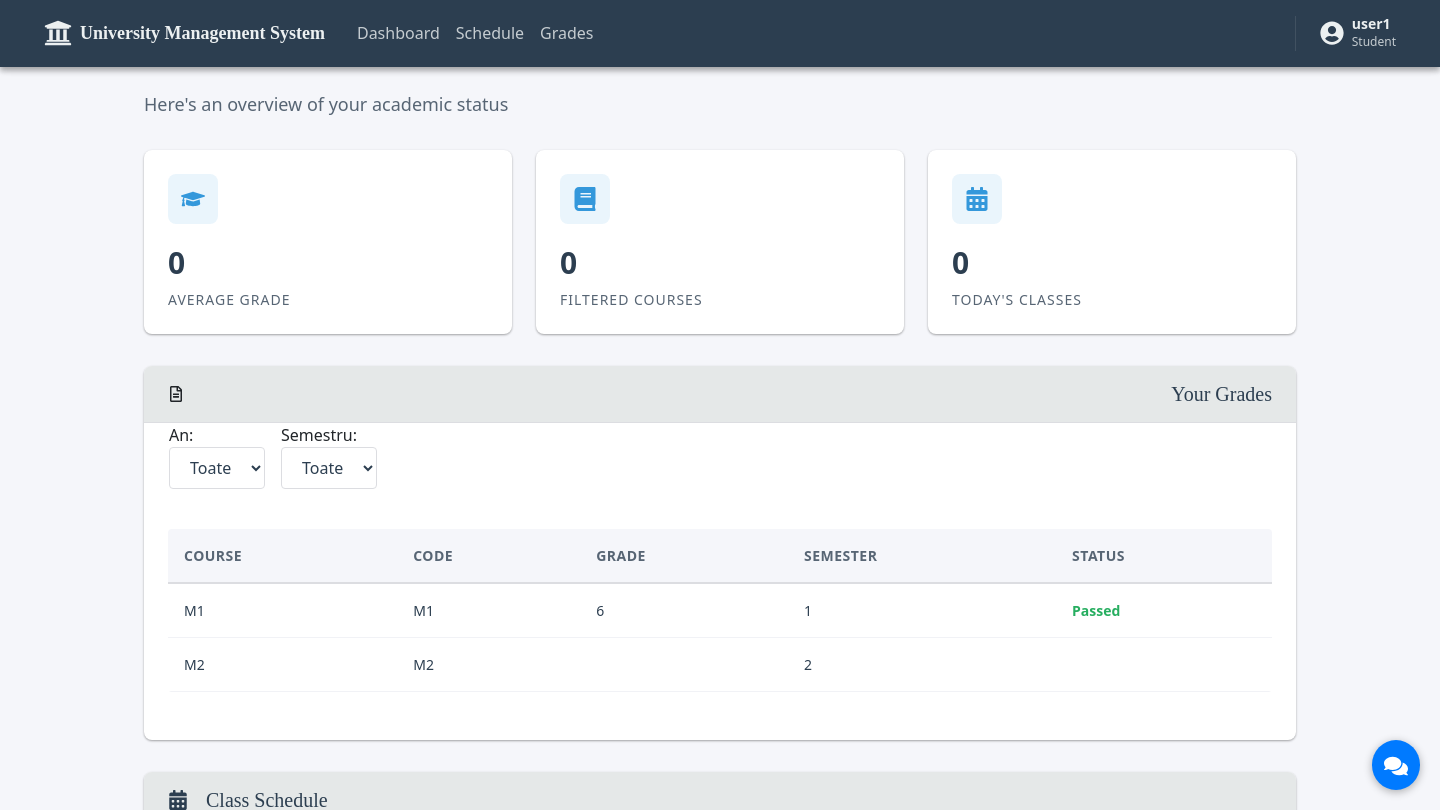
Scenario: StudentPage › calculează corect media ponderată și numărul de cursuri la filtrarea după an
Select "1" in the dropdown labelled "An:" at (217, 468), box left=169, top=447, right=265, bottom=489
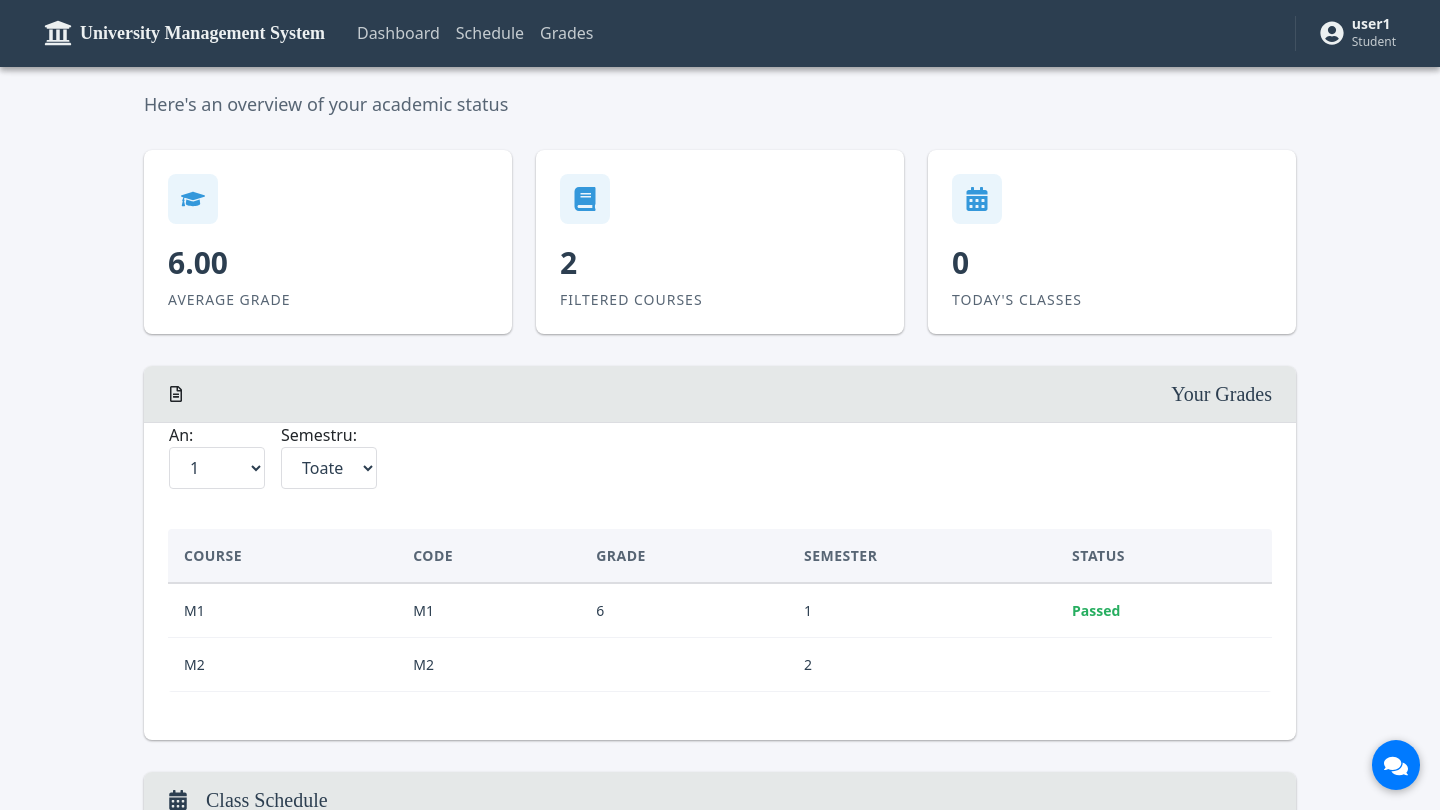
Expected: the text "6.00" is shown, left=168, top=242, right=228, bottom=283
Expected: the text "2" is shown, left=560, top=242, right=577, bottom=283
